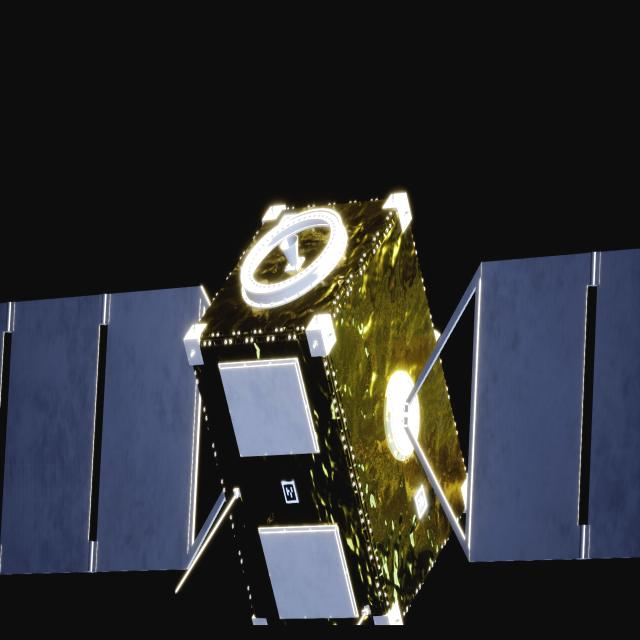medium_debris: (0, 191, 640, 627)
